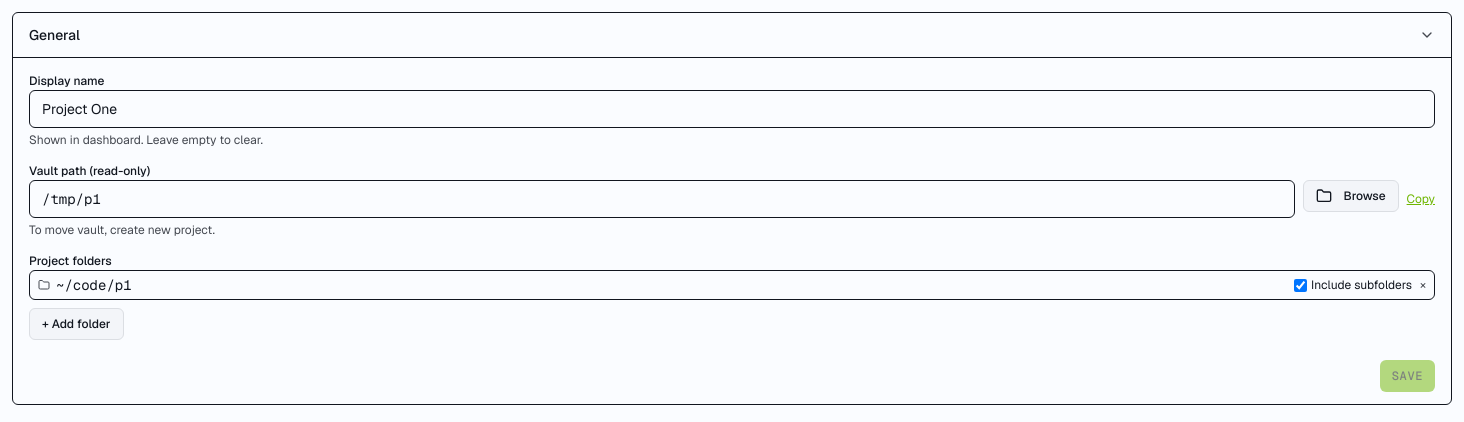
Test case: GeneralSection › removing CWD pattern triggers dirty state
This screenshot has width=1464, height=422.
Click the button named "Remove" at (1423, 285), box x1=1420 y1=277 x2=1426 y2=293
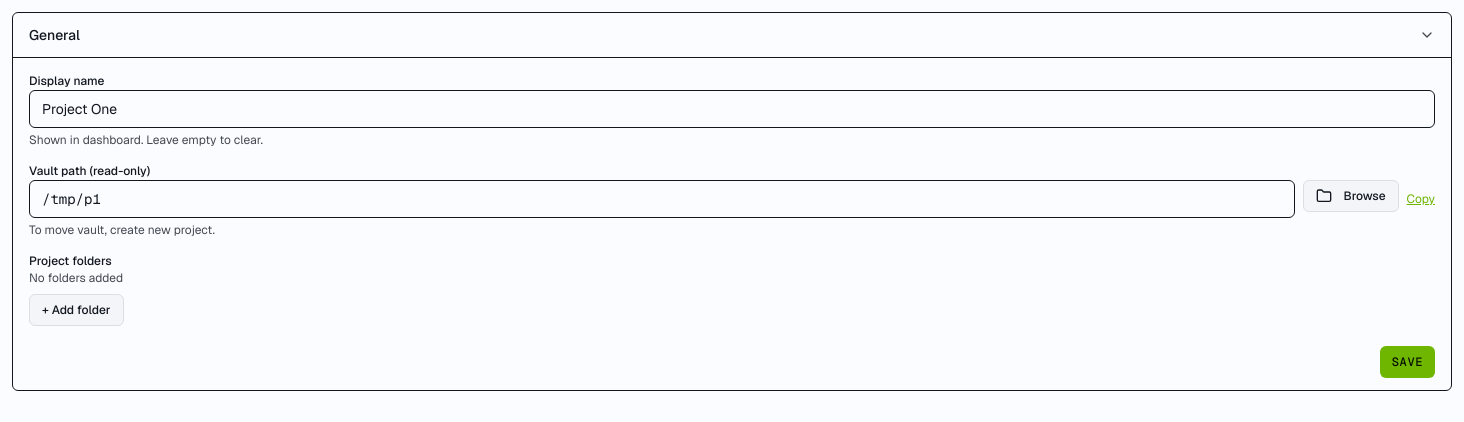
Check: the button "Save" is enabled, box x1=1380 y1=346 x2=1435 y2=378
